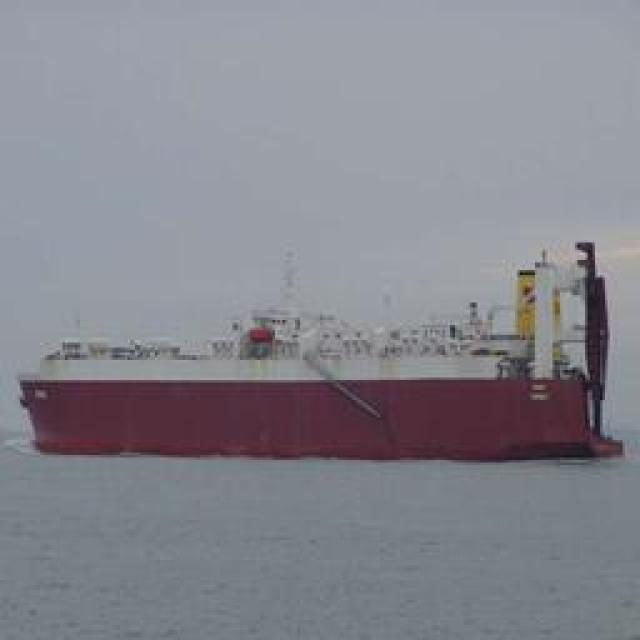CIV_Ship: (16, 266, 626, 462)
